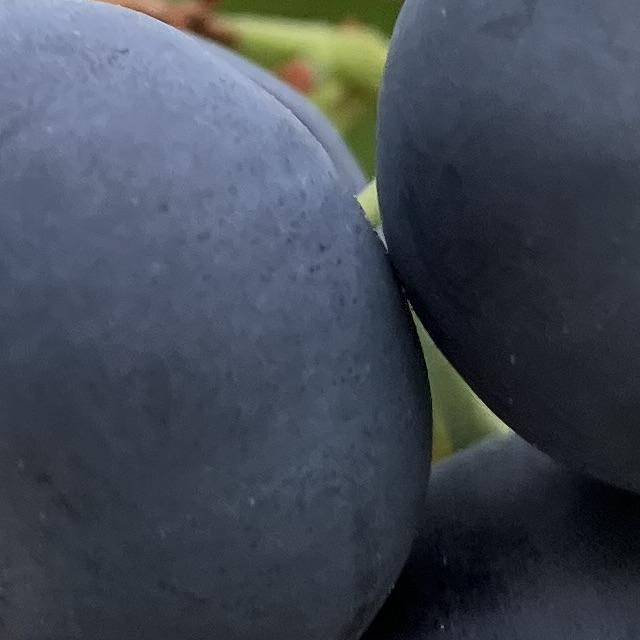Blueberries: (0, 0, 425, 640), (369, 0, 640, 502)
